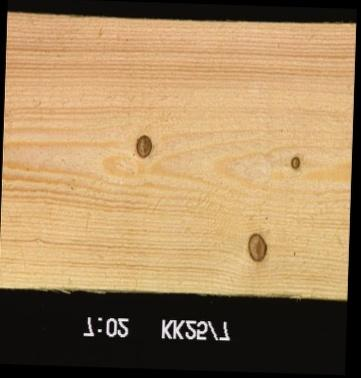dry_knot: (243, 231, 267, 264), (132, 132, 152, 159), (287, 154, 300, 171)
